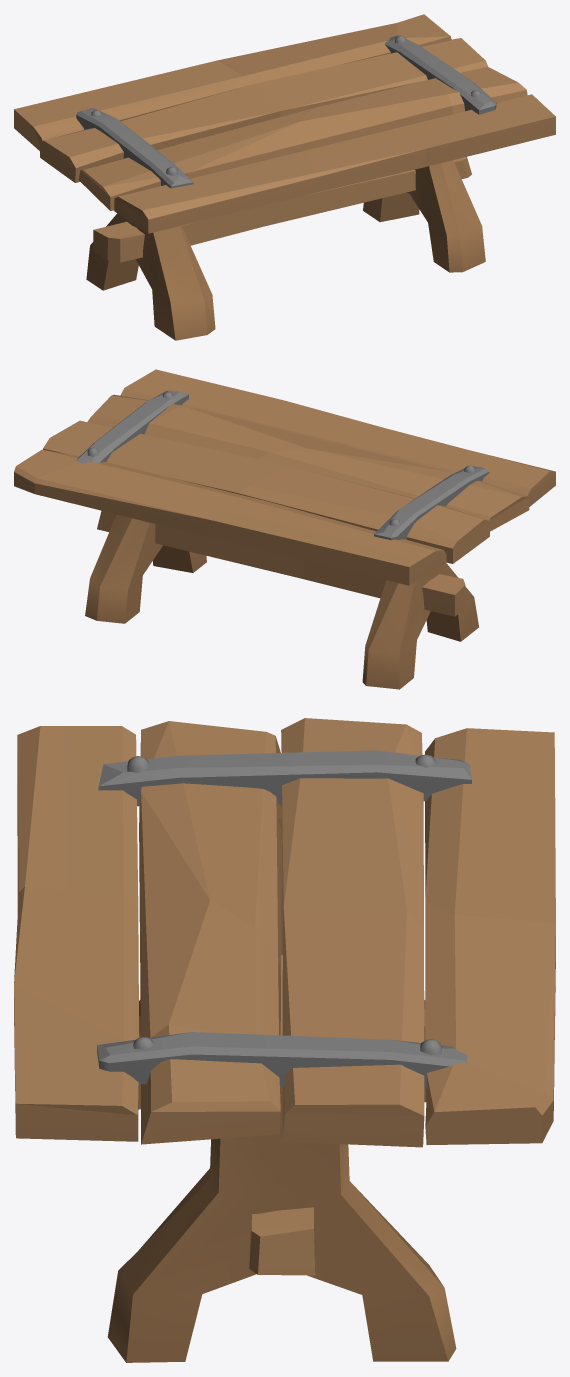
The model's file is Table_B.fbx.
3 renders of one model, top to bottom at view 1: azimuth 30°, elevation 25°; view 2: azimuth 150°, elevation 25°; view 3: azimuth 270°, elevation 25°, orthographic. The views are drawn at different scales.
Visible parts, largest first — view 1: Table_B; view 2: Table_B; view 3: Table_B.
Boxes of the visible parts, bbox=[...] form: Table_B: bbox=[14, 14, 555, 340]; Table_B: bbox=[14, 369, 555, 689]; Table_B: bbox=[14, 718, 555, 1362].
Size of the model in its own units: 220 by 84.56 by 130.
